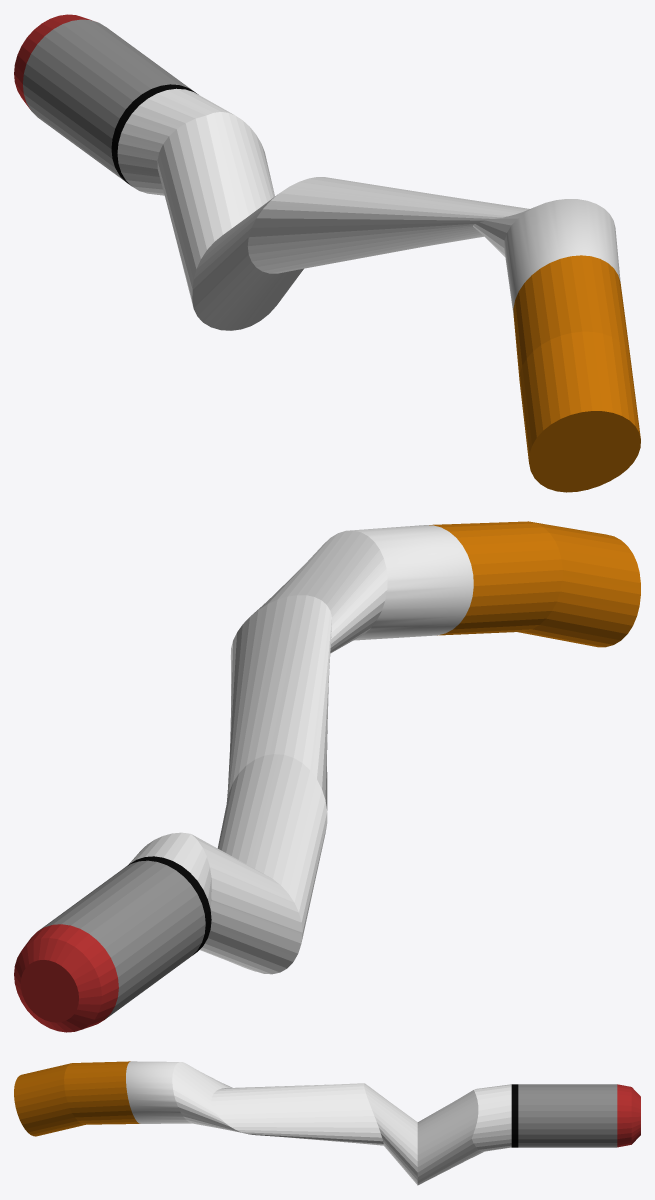
Rendered from 曲がりタバコ4.fbx.
3 views of the same model, one above another, from view 1: azimuth 30°, elevation 25°; view 2: azimuth 150°, elevation 25°; view 3: azimuth 270°, elevation 25° (orthographic). The views are drawn at different scales.
Parts seen in each view (by area): view 1: 円柱; view 2: 円柱; view 3: 円柱.
Boxes of the visible parts, x1,y1,x2,y2 form: 円柱: [14, 14, 640, 492]; 円柱: [14, 521, 640, 1032]; 円柱: [14, 1061, 640, 1185].
Bounding box in the file's own units: 33.5 × 36.02 × 139.
